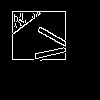V: (25, 25, 75, 64)
